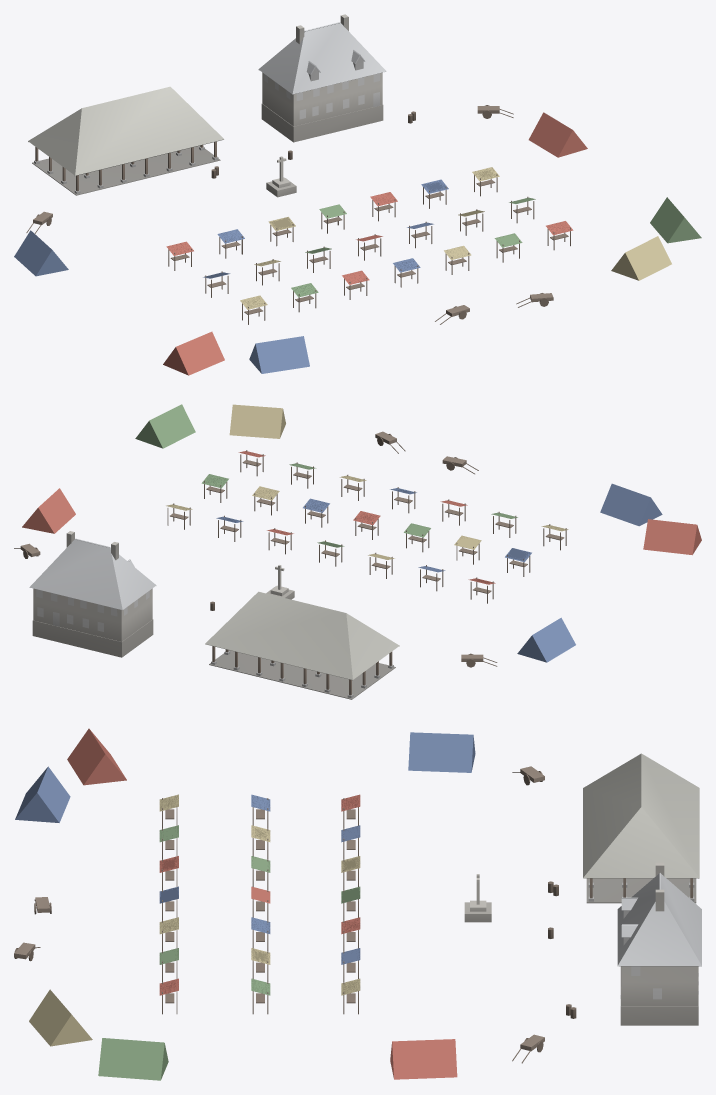
The model's file is market_3.glb.
3 renders of one model, top to bottom at view 1: azimuth 30°, elevation 25°; view 2: azimuth 150°, elevation 25°; view 3: azimuth 270°, elevation 25°, orthographic. The views are drawn at different scales.
Parts seen in each view (by area): view 1: market_3; view 2: market_3; view 3: market_3.
Part boxes in pixels (x1=…): market_3: x1=14, y1=14, x2=701, y2=375; market_3: x1=14, y1=404, x2=701, y2=699; market_3: x1=14, y1=728, x2=701, y2=1080.
Size of the model in its own units: 85.87 by 14.74 by 75.84.
